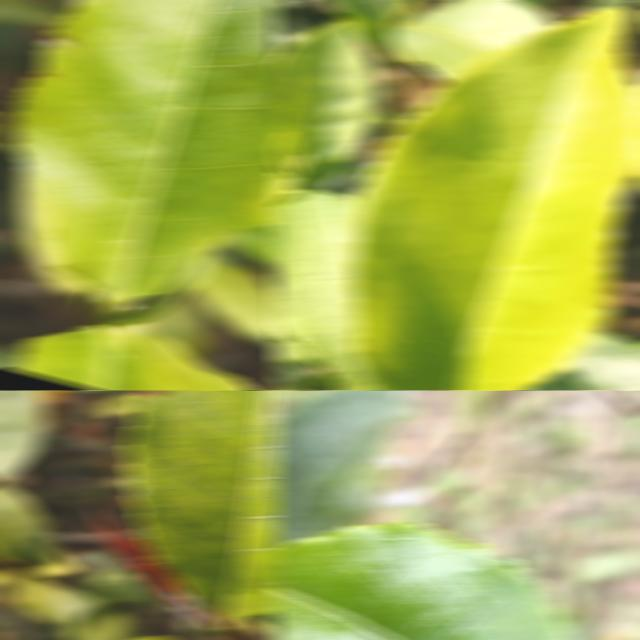Leaf: (348, 7, 640, 390), (11, 0, 280, 305), (270, 520, 577, 640), (124, 390, 280, 622), (270, 390, 418, 550), (270, 189, 372, 390), (270, 21, 383, 188), (387, 0, 557, 80), (15, 324, 176, 390), (188, 252, 280, 346), (127, 333, 255, 390), (0, 485, 59, 563), (0, 390, 47, 482), (327, 0, 404, 48), (8, 576, 64, 623), (63, 605, 131, 640)
